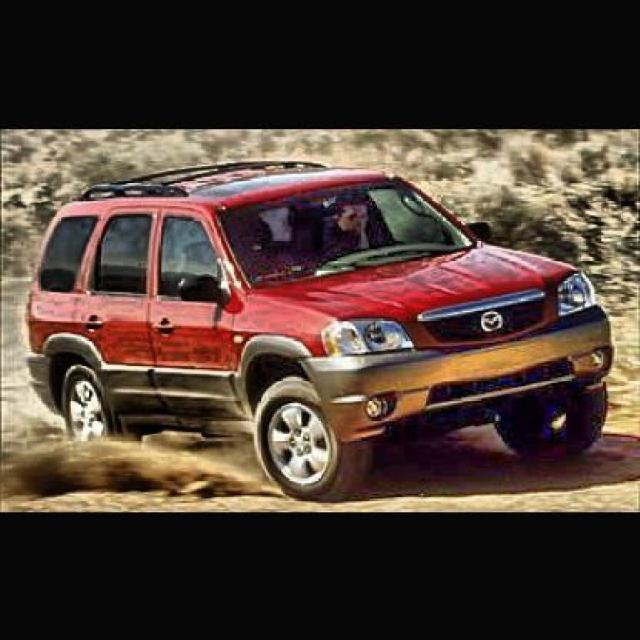red: (12, 168, 625, 435)
